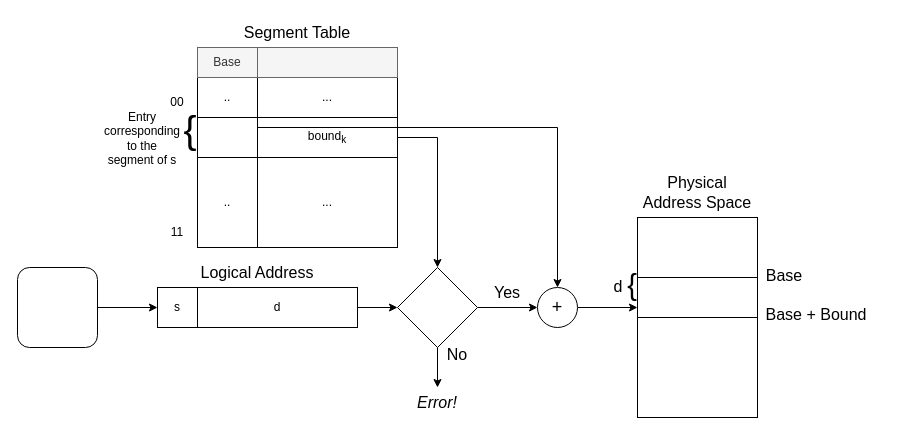
Image size: 899x435. Some labels were removed from this diagram. Here are the shapes that lost their labels. From the top down, the box of each, then its label:
(256, 46, 398, 78): Bound
(196, 116, 258, 158): base k
(16, 266, 98, 348): CPU
(396, 266, 478, 348): d < bound k
